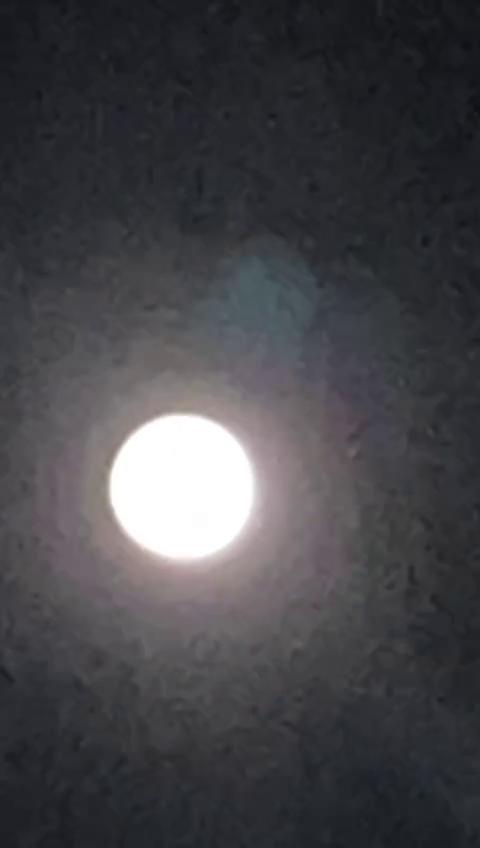moon: (130, 361, 308, 552)
